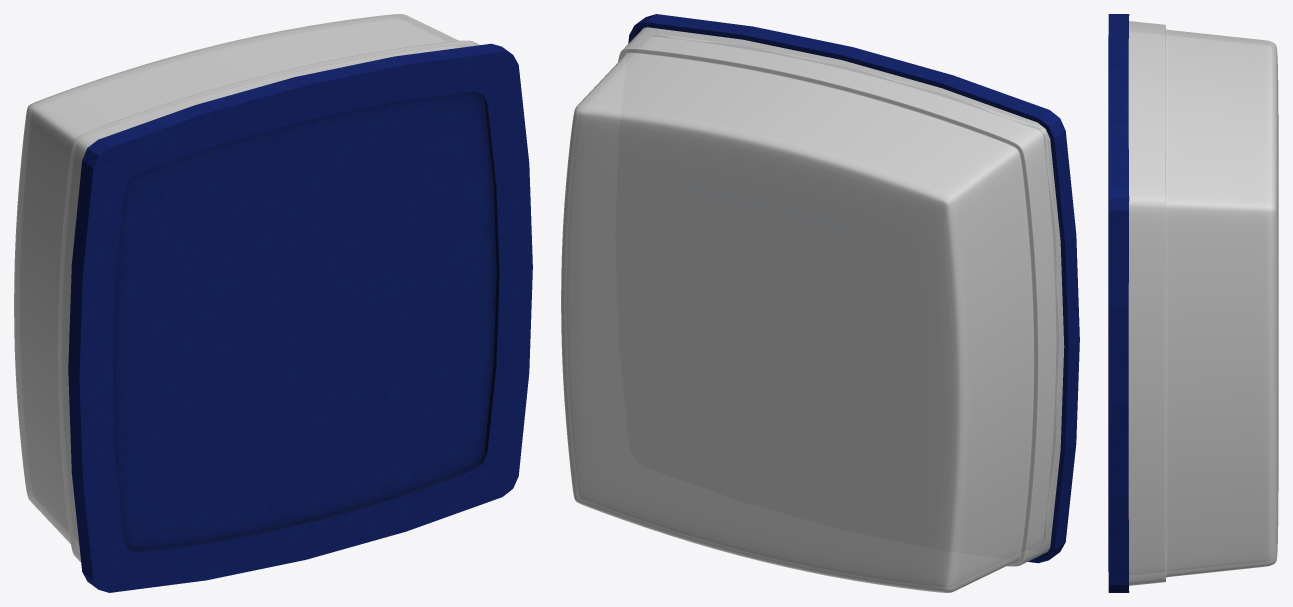
File: 14045_Plastic_Food_Storage_v1_l3.obj
3 renders of one model, left to right at view 1: azimuth 30°, elevation 25°; view 2: azimuth 150°, elevation 25°; view 3: azimuth 270°, elevation 25°, orthographic. The views are drawn at different scales.
Parts seen in each view (by area): view 1: 14045_Plastic_Food_Storage_cap, 14045_Plastic_Food_Storage; view 2: 14045_Plastic_Food_Storage, 14045_Plastic_Food_Storage_cap; view 3: 14045_Plastic_Food_Storage, 14045_Plastic_Food_Storage_cap.
Part boxes in pixels (<box>): 14045_Plastic_Food_Storage_cap: <box>68,43,532,592</box>; 14045_Plastic_Food_Storage: <box>14,14,479,562</box>; 14045_Plastic_Food_Storage: <box>561,27,1064,592</box>; 14045_Plastic_Food_Storage_cap: <box>628,14,1079,563</box>; 14045_Plastic_Food_Storage: <box>1128,21,1278,585</box>; 14045_Plastic_Food_Storage_cap: <box>1108,14,1129,592</box>.
Bounding box in the file's own units: 30.5 × 30.5 × 10.91.
Materials: 2 (1 with a texture image).
